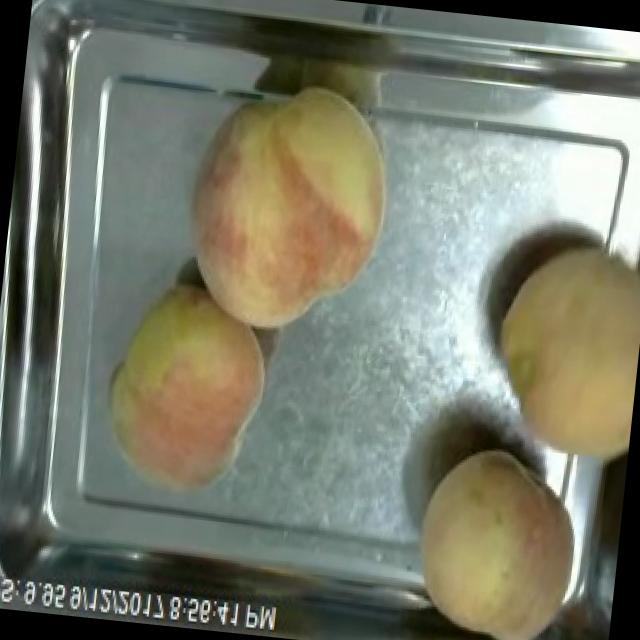Fruit: (168, 68, 408, 346), (90, 268, 284, 511), (474, 221, 640, 476), (397, 432, 598, 640)
